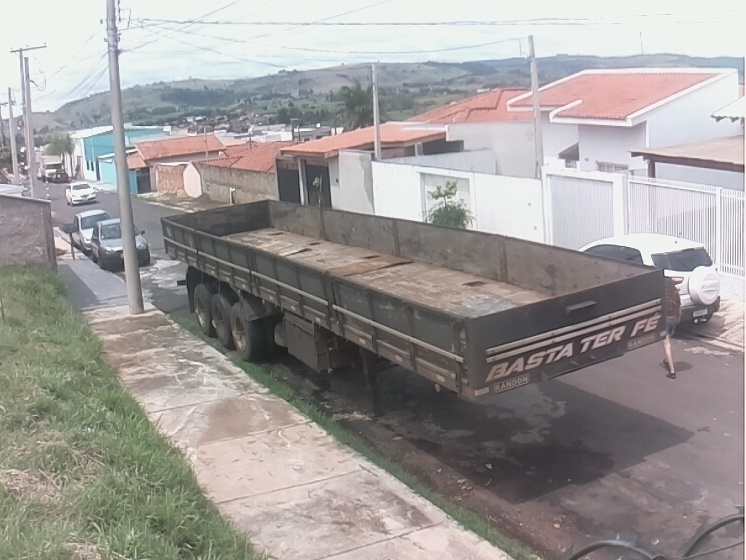person: (654, 274, 681, 381)
